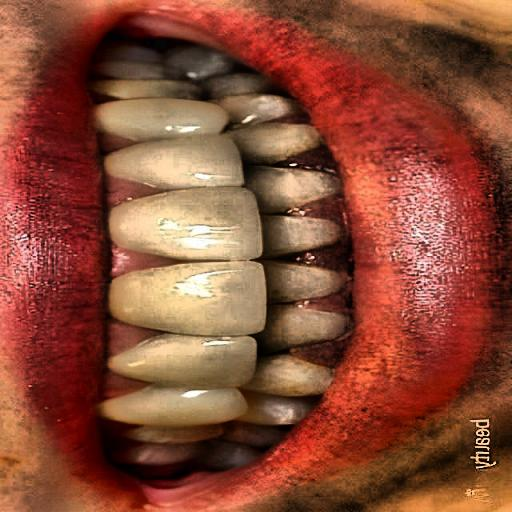Healthy: (66, 10, 372, 450)
